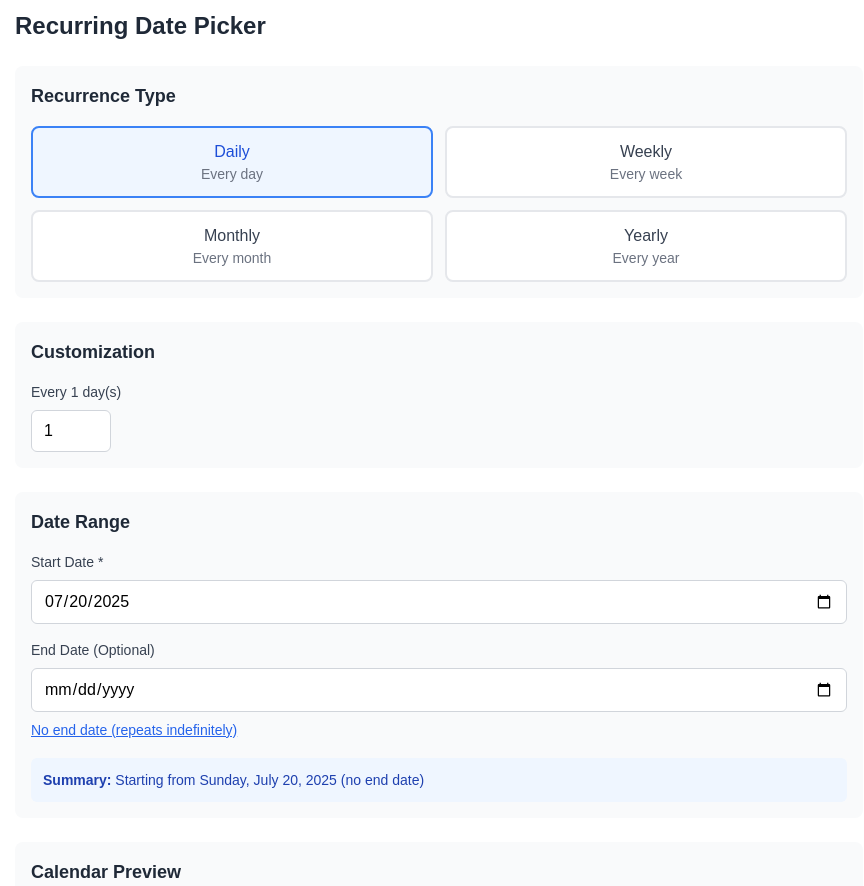
Scenario: RecurringDatePicker › can select weekly recurrence and see days of week
The image size is (864, 886).
Click the text "Weekly" at (646, 152), box left=620, top=143, right=672, bottom=160
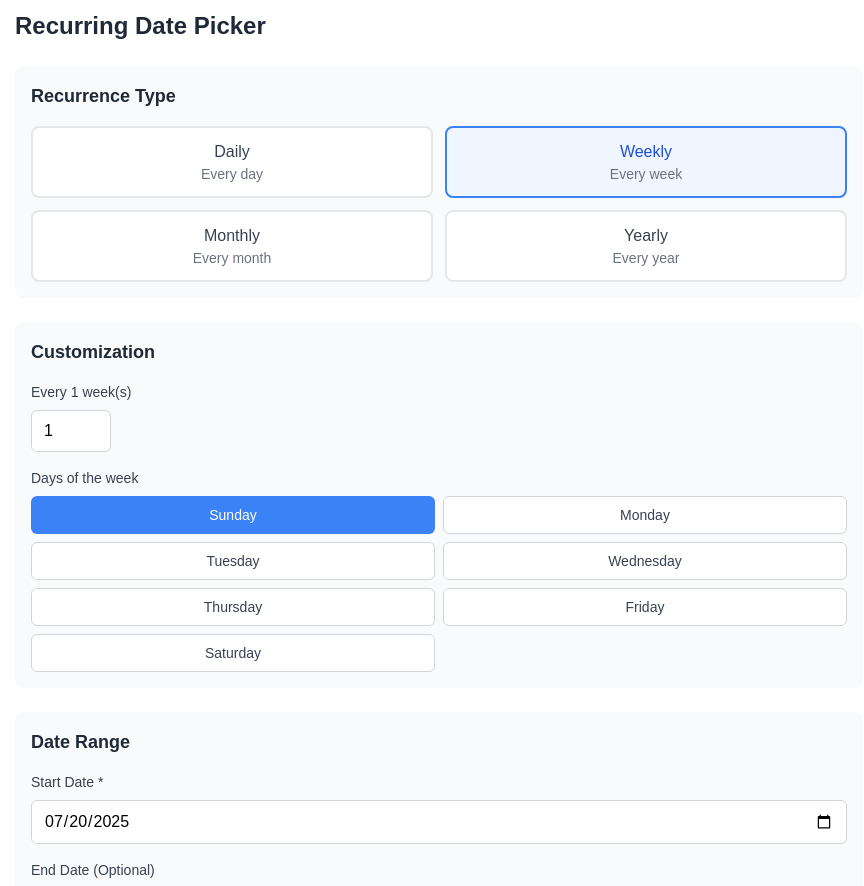
Now the text "Days of the week" is shown, box left=31, top=470, right=138, bottom=486
Now the button "Monday" is shown, box left=443, top=496, right=847, bottom=534
Now the button "Sunday" is shown, box left=31, top=496, right=435, bottom=534
